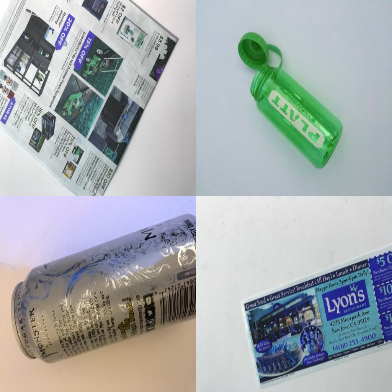metal: (11, 213, 196, 363)
paper: (1, 1, 178, 195), (243, 246, 392, 388)
plastic: (238, 31, 342, 169)
